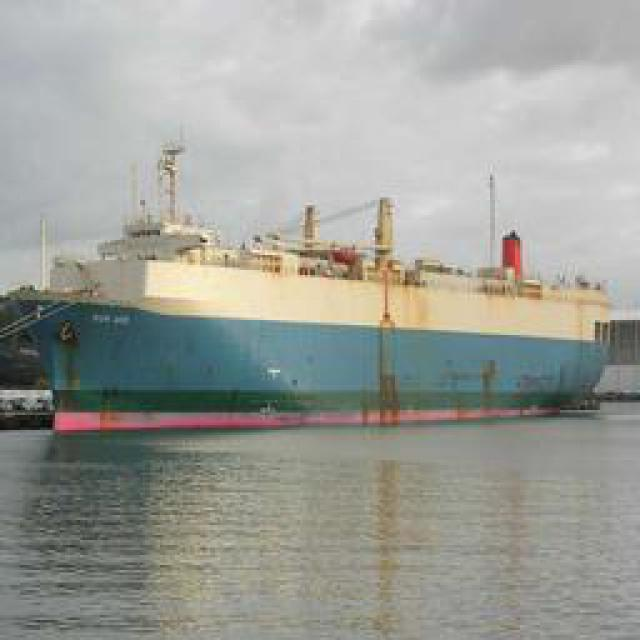Ship: (19, 165, 619, 425)
